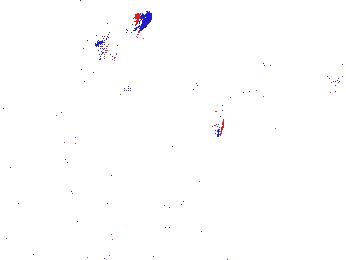glassfish: (202, 71, 226, 141)
redtail glassfish: (253, 55, 343, 100), (98, 11, 151, 66), (219, 85, 264, 104)
